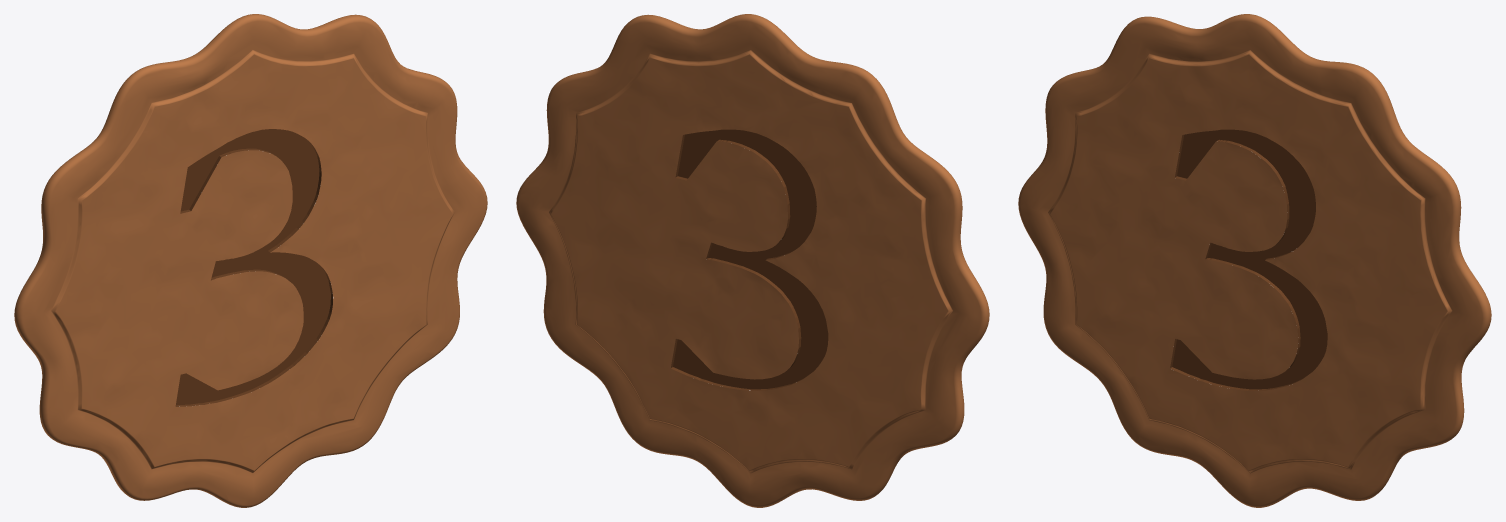
Rendered from badge-3.glb.
3 views of the same model, side by side, from view 1: azimuth 30°, elevation 25°; view 2: azimuth 150°, elevation 25°; view 3: azimuth 330°, elevation 25° (orthographic).
Visible parts, largest first — view 1: badge_body, digit_3_front; view 2: badge_body, digit_3_front; view 3: badge_body, digit_3_front.
Boxes of the visible parts, <box> form: badge_body: <box>14,14,487,507</box>; digit_3_front: <box>175,129,332,406</box>; badge_body: <box>516,14,989,507</box>; digit_3_front: <box>670,129,828,390</box>; badge_body: <box>1018,14,1491,507</box>; digit_3_front: <box>1170,129,1327,390</box>.
Size of the model in its own units: 0.2585 by 0.2575 by 0.00991.
